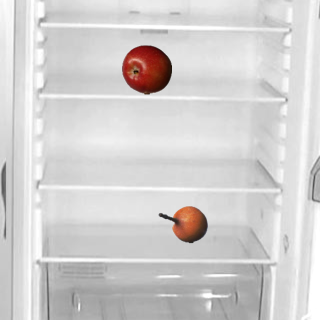Apple Braeburn: (121, 44, 171, 94)
Granadilla: (157, 199, 207, 249)
